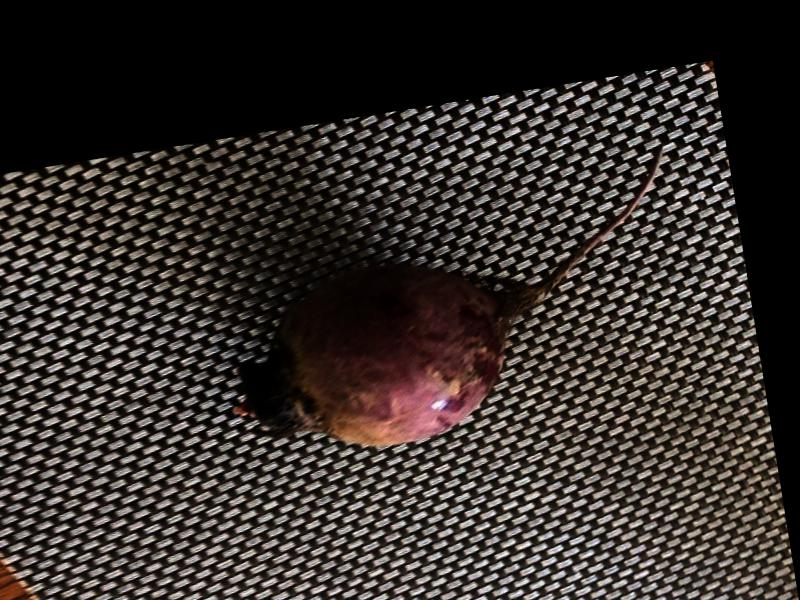Beet: (202, 145, 704, 467)
